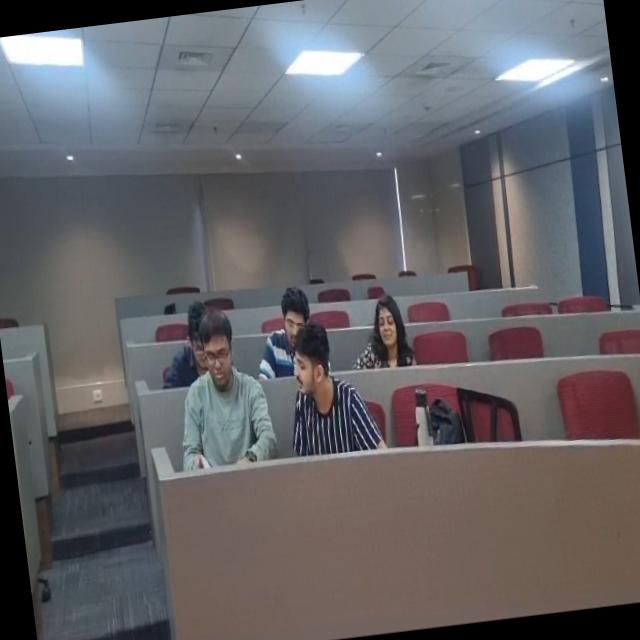cheating: (287, 318, 351, 428), (197, 320, 245, 398)
non-cheating: (164, 283, 226, 379), (266, 268, 322, 360), (359, 284, 412, 374)
